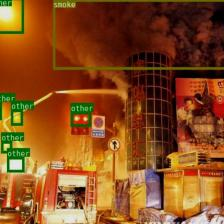smoke: (52, 0, 224, 69)
